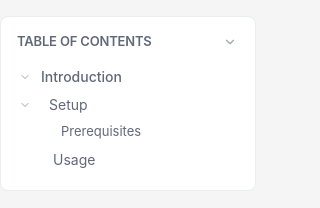
TableOfContents › section collapse toggle hides children when clicked
This screenshot has width=320, height=208.
Expected: the button "Setup" is shown, [33, 91, 239, 119]
Step 1. Click the button with test id "toc-toggle-intro" → [25, 77], box [17, 69, 33, 85]
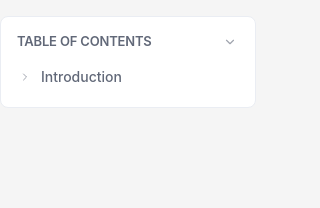
Expected: the button "Introduction" is shown, [33, 63, 239, 91]
Expected: the button "Setup" is gone
Expected: the button "Usage" is gone
